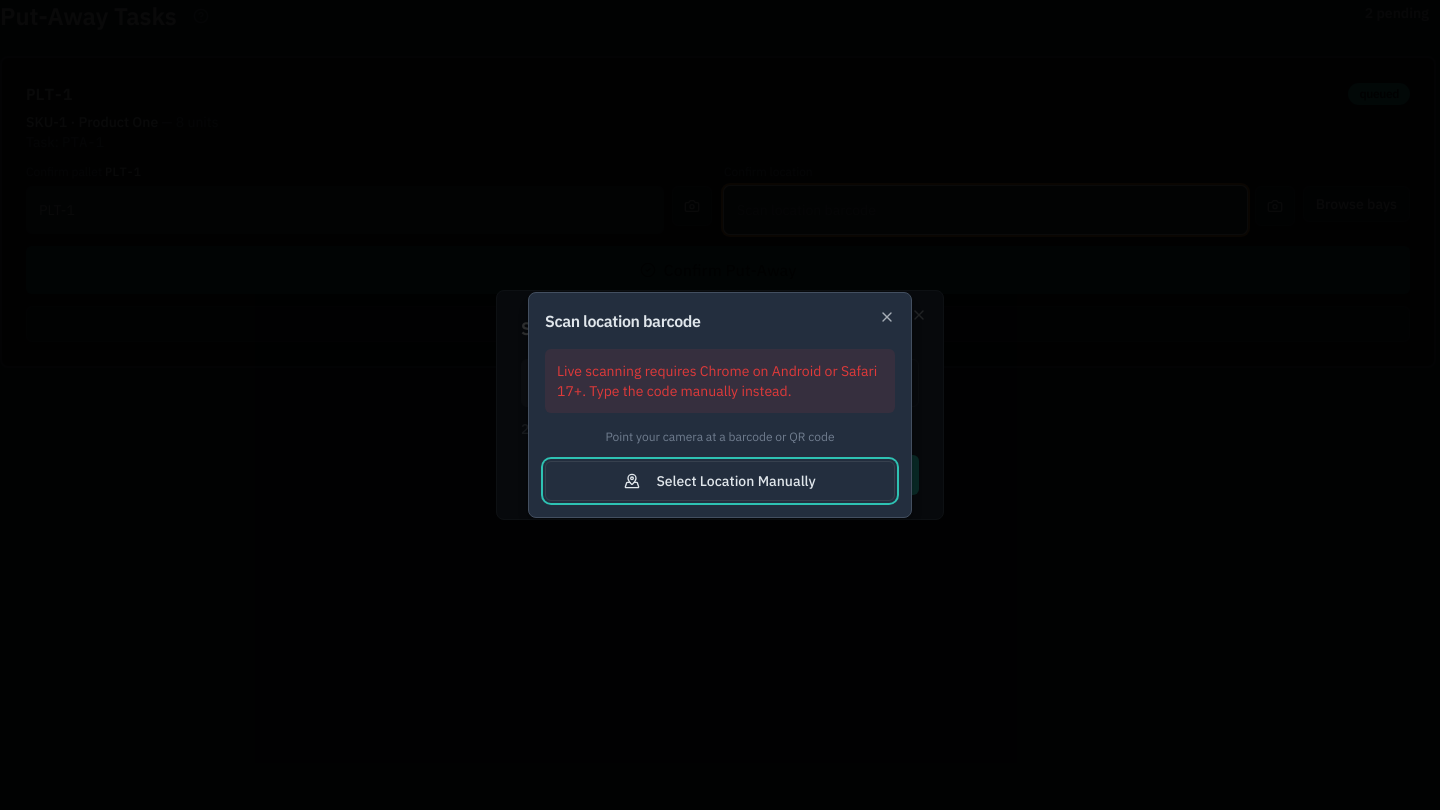
Test: PutawayTasksPage scan-first flow › opens the bay selector from the location scanner manual action
Earlier steps of the test are not shown.
Later steps or results of the test are not shown.
Click the button "Select Location Manually" at (720,481), box x1=545 y1=461 x2=895 y2=501
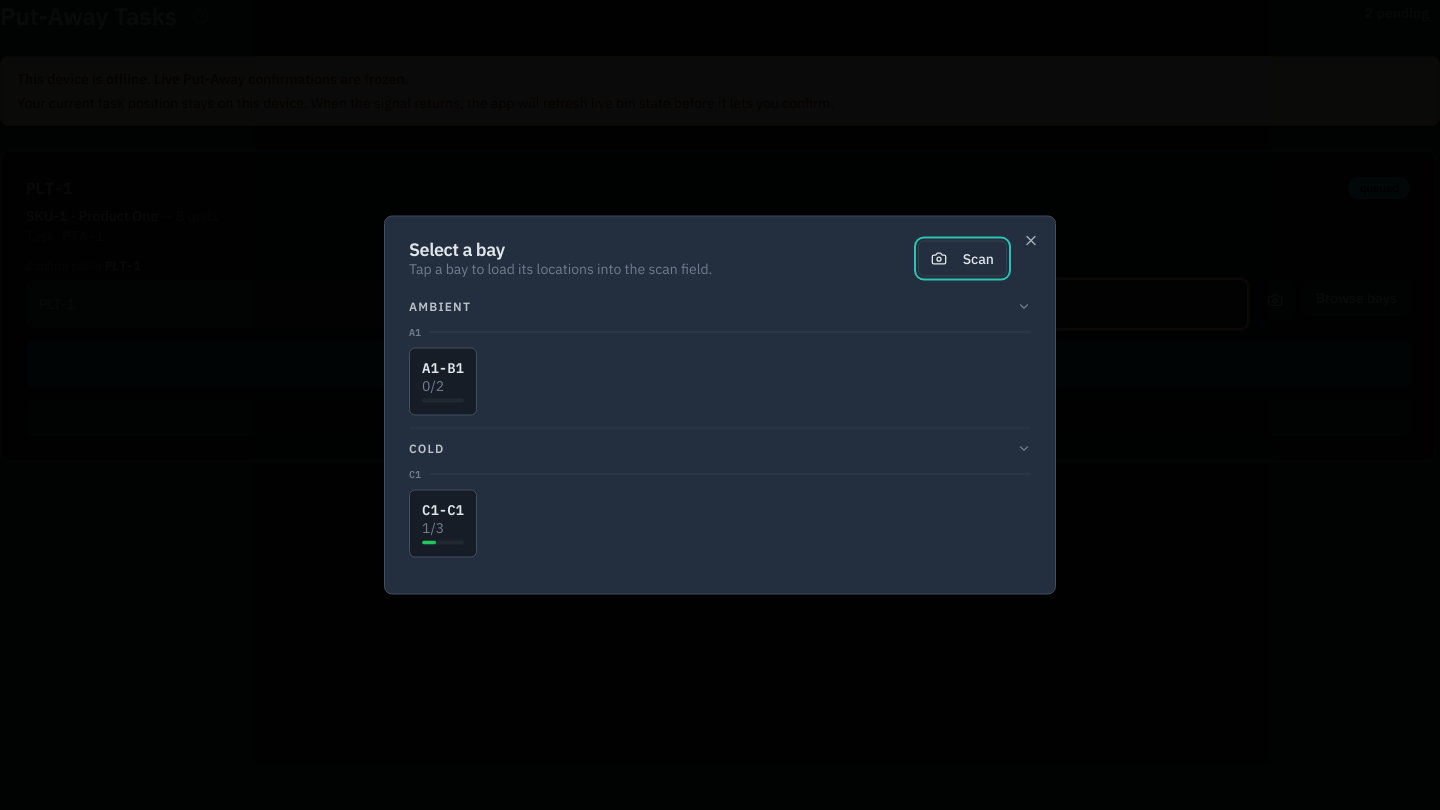
Now the button "Scan" is shown, box x1=918 y1=240 x2=1007 y2=276
